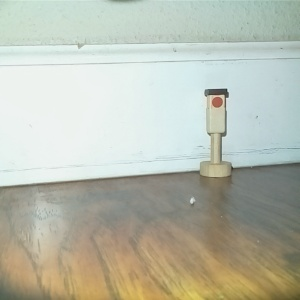traffic light red: (197, 86, 233, 179)
